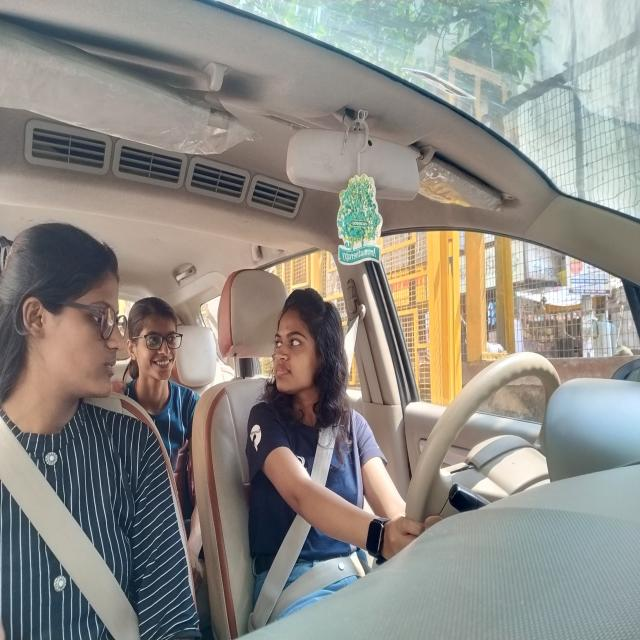LeftRight: (258, 268, 362, 451)
person: (3, 202, 134, 428), (121, 284, 188, 388)
